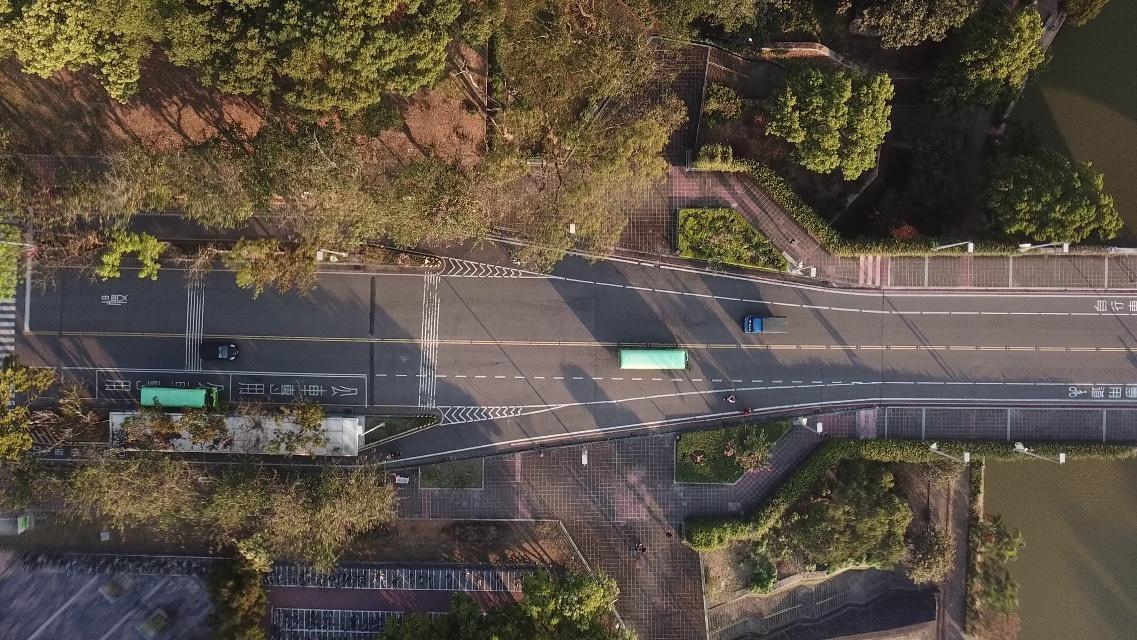Bus: (140, 386, 218, 406), (620, 348, 686, 368)
Car: (200, 340, 240, 362)
